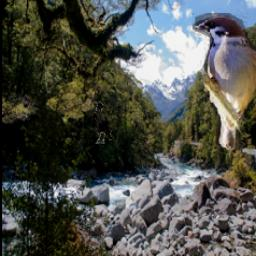Crow: (93, 101, 112, 144)
Sparrow: (194, 13, 256, 150)
